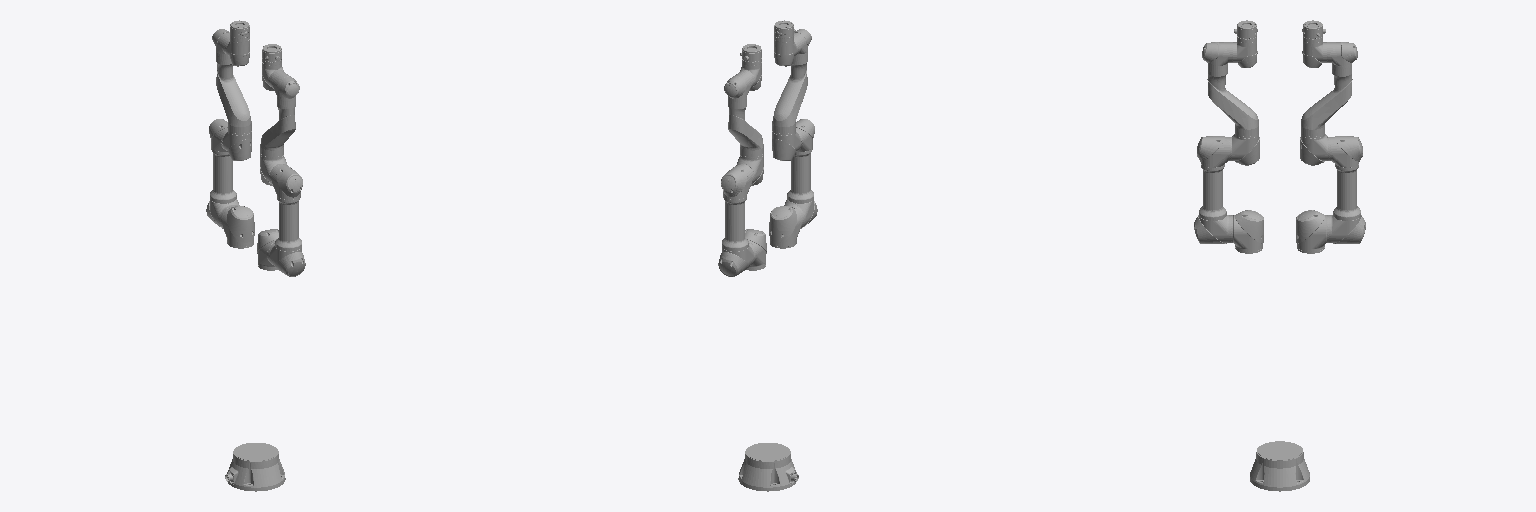
robot.urdf — rbda:
<?xml version="1.0"?>
<robot name="rbda">
  <!-- Links -->
  <link name="world"/>

  <link name="mobile_base">
    <inertial>
      <mass value="161"/>
      <origin rpy="0 0 0" xyz="0.0 0.0 0.0"/>
      <inertia ixx="27" ixy="-0.007" ixz="-0.612" iyy="23" iyz="-4.439" izz="10.129"/>
    </inertial>

    <visual>
      <geometry>
        <mesh filename="package://rbda_description/meshes/MOBILE_BASE.stl"/>
      </geometry>
      <material name="LightGrey">
        <color rgba="0.7 0.7 0.7 1.0"/>
      </material>
    </visual>
  </link>

  <link name="base">
    <inertial>
      <mass value="2.91800"/>
      <origin rpy="0 0 0" xyz="0.0 0.0 0.0"/>
      <inertia ixx="0.01457529" ixy="-0.00000082" ixz="0.00054762" iyy="0.01518894" iyz="0.00000058" izz="0.01550123"/>
    </inertial>

    <visual>
      <geometry>
        <mesh filename="package://rbda_description/meshes/BASE.stl" scale="0.001 0.001 0.001"/>
      </geometry>
      <material name="LightGrey">
        <color rgba="0.7 0.7 0.7 1.0"/>
      </material>
    </visual>
  </link>

  <link name="link_0">
    <inertial>
      <mass value="11.64466333"/>
      <origin rpy="0 0 0" xyz="0.0 0.0 0.0"/>
      <inertia ixx=" 0.45161787" ixy="0.00000094" ixz="0.00028876" iyy="0.43572041" iyz="-0.00050430" izz="0.05408588"/>
    </inertial>

    <visual>
      <geometry>
        <mesh filename="package://rbda_description/meshes/LINK_0.stl" scale="0.001 0.001 0.001"/>
      </geometry>
      <material name="LightGrey">
        <color rgba="0.7 0.7 0.7 1.0"/>
      </material>
    </visual>
  </link>

  <link name="link_1">
    <inertial>
      <mass value="13.25377205"/>
      <origin rpy="0 0 0" xyz="0.0 0.0 0.0"/>
      <inertia ixx="0.19474508" ixy="0.00001690" ixz="-0.00000023" iyy="0.17137211" iyz="-0.00049213" izz="0.06527313"/>
    </inertial>

    <visual>
      <geometry>
        <mesh filename="package://rbda_description/meshes/LINK_1.stl" scale="0.001 0.001 0.001"/>
      </geometry>
      <material name="LightGrey">
        <color rgba="0.7 0.7 0.7 1.0"/>
      </material>
    </visual>
  </link>

  <link name="link_2">
    <inertial>
      <mass value="13.33042487"/>
      <origin rpy="0 0 0" xyz="0.0 0.0 0.0"/>
      <inertia ixx="0.15616959" ixy="0.00001687" ixz="0.00092799" iyy="0.13607163" iyz="-0.00105443" izz="0.05910817"/>
    </inertial>

    <visual>
      <geometry>
        <mesh filename="package://rbda_description/meshes/LINK_2.stl" scale="0.001 0.001 0.001"/>
      </geometry>
      <material name="LightGrey">
        <color rgba="0.7 0.7 0.7 1.0"/>
      </material>
    </visual>
  </link>

  <link name="link_3">
    <inertial>
      <mass value="2.07669726"/>
      <origin rpy="0 0 0" xyz="0.0 0.0 0.0"/>
      <inertia ixx="0.00414408" ixy="-0.00000026" ixz="-0.00000377" iyy="0.00414761" iyz="-0.00001979" izz="0.00215831"/>
    </inertial>

    <visual>
      <geometry>
        <mesh filename="package://rbda_description/meshes/LINK_3.stl" scale="0.001 0.001 0.001"/>
      </geometry>
      <material name="LightGrey">
        <color rgba="0.7 0.7 0.7 1.0"/>
      </material>
    </visual>
  </link>

  <link name="link_4">
    <inertial>
      <mass value="4.08159704"/>
      <origin rpy="0 0 0" xyz="0.0 0.0 0.0"/>
      <inertia ixx="0.17216619" ixy="-0.00002462" ixz="-0.00000840" iyy="0.13459627" iyz="0.04730580" izz="0.04149886"/>
    </inertial>

    <visual>
      <geometry>
        <mesh filename="package://rbda_description/meshes/LINK_4.stl" scale="0.001 0.001 0.001"/>
      </geometry>
      <material name="LightGrey">
        <color rgba="0.7 0.7 0.7 1.0"/>
      </material>
    </visual>
  </link>

  <link name="link_5">
    <inertial>
      <mass value="1.50221027"/>
      <origin rpy="0 0 0" xyz="0.0 0.0 0.0"/>
      <inertia ixx="0.00265085" ixy="0.00000064" ixz="-0.00000260" iyy="0.00257202" iyz="0.00002846" izz="0.00128540"/>
    </inertial>

    <visual>
      <geometry>
        <mesh filename="package://rbda_description/meshes/LINK_5.stl" scale="0.001 0.001 0.001"/>
      </geometry>
      <material name="LightGrey">
        <color rgba="0.7 0.7 0.7 1.0"/>
      </material>
    </visual>
  </link>

  <link name="link_6">
    <inertial>
      <mass value="1.72019885"/>
      <origin rpy="0 0 0" xyz="0.0 0.0 0.0"/>
      <inertia ixx="0.14995915" ixy="0.00000873" ixz="-0.00002574" iyy="0.14118611" iyz="0.03306523" izz="0.00998350"/>
    </inertial>

    <visual>
      <geometry>
        <mesh filename="package://rbda_description/meshes/LINK_6.stl" scale="0.001 0.001 0.001"/>
      </geometry>
      <material name="LightGrey">
        <color rgba="0.7 0.7 0.7 1.0"/>
      </material>
    </visual>
  </link>

  <link name="link_7">
    <inertial>
      <mass value="0.88877220"/>
      <origin rpy="0 0 0" xyz="0.0 0.0 0.0"/>
      <inertia ixx="0.00106944" ixy="-0.00000027" ixz="-0.00000260" iyy="0.00105709" iyz="0.00000295" izz="0.00045001"/>
    </inertial>

    <visual>
      <geometry>
        <mesh filename="package://rbda_description/meshes/LINK_7.stl" scale="0.001 0.001 0.001"/>
      </geometry>
      <material name="LightGrey">
        <color rgba="0.7 0.7 0.7 1.0"/>
      </material>
    </visual>
  </link>

  <link name="link_8">
    <inertial>
      <mass value="0.04971115"/>
      <origin rpy="0 0 0" xyz="0.0 0.0 0.0"/>
      <inertia ixx="0.00025591" ixy="-0.00000040" ixz="0.00000373" iyy="0.00024646" iyz="0.00000444" izz="0.00003526"/>
    </inertial>

    <visual>
      <geometry>
        <mesh filename="package://rbda_description/meshes/LINK_8.stl" scale="0.001 0.001 0.001"/>
      </geometry>
      <material name="LightGrey">
        <color rgba="0.7 0.7 0.7 1.0"/>
      </material>
    </visual>
  </link>

  <link name="link_10">
    <inertial>
      <mass value="2.07669726"/>
      <origin rpy="0 0 0" xyz="0.0 0.0 0.0"/>
      <inertia ixx="0.00414408" ixy="-0.00000026" ixz="0.00000377" iyy="0.00414761" iyz="0.00001979" izz="0.00215831"/>
    </inertial>

    <visual>
      <geometry>
        <mesh filename="package://rbda_description/meshes/LINK_10.stl" scale="0.001 0.001 0.001"/>
      </geometry>
      <material name="LightGrey">
        <color rgba="0.7 0.7 0.7 1.0"/>
      </material>
    </visual>
  </link>

  <link name="link_11">
    <inertial>
      <mass value="4.08159704"/>
      <origin rpy="0 0 0" xyz="0.0 0.0 0.0"/>
      <inertia ixx="0.17216619" ixy="-0.00002462" ixz="0.00000840" iyy="0.13459627" iyz="-0.04730580" izz="0.04149886"/>
    </inertial>

    <visual>
      <geometry>
        <mesh filename="package://rbda_description/meshes/LINK_11.stl" scale="0.001 0.001 0.001"/>
      </geometry>
      <material name="LightGrey">
        <color rgba="0.7 0.7 0.7 1.0"/>
      </material>
    </visual>
  </link>

  <link name="link_12">
    <inertial>
      <mass value="1.50221027"/>
      <origin rpy="0 0 0" xyz="0.0 0.0 0.0"/>
      <inertia ixx="0.00265085" ixy="0.00000064" ixz="0.00000260" iyy="0.00257202" iyz="-0.00002846" izz="0.00128540"/>
    </inertial>

    <visual>
      <geometry>
        <mesh filename="package://rbda_description/meshes/LINK_12.stl" scale="0.001 0.001 0.001"/>
      </geometry>
      <material name="LightGrey">
        <color rgba="0.7 0.7 0.7 1.0"/>
      </material>
    </visual>
  </link>

  <link name="link_13">
    <inertial>
      <mass value="1.72019885"/>
      <origin rpy="0 0 0" xyz="0.0 0.0 0.0"/>
      <inertia ixx="0.14995915" ixy="0.00000873" ixz="0.00002574" iyy="0.14118611" iyz="-0.03306523" izz="0.00998350"/>
    </inertial>

    <visual>
      <geometry>
        <mesh filename="package://rbda_description/meshes/LINK_13.stl" scale="0.001 0.001 0.001"/>
      </geometry>
      <material name="LightGrey">
        <color rgba="0.7 0.7 0.7 1.0"/>
      </material>
    </visual>
  </link>

  <link name="link_14">
    <inertial>
      <mass value="0.88877220"/>
      <origin rpy="0 0 0" xyz="0.0 0.0 0.0"/>
      <inertia ixx="0.00106944" ixy="-0.00000027" ixz="0.00000260" iyy="0.00105709" iyz="-0.00000295" izz="0.00045001"/>
    </inertial>

    <visual>
      <geometry>
        <mesh filename="package://rbda_description/meshes/LINK_14.stl" scale="0.001 0.001 0.001"/>
      </geometry>
      <material name="LightGrey">
        <color rgba="0.7 0.7 0.7 1.0"/>
      </material>
    </visual>
  </link>

  <link name="link_15">
    <inertial>
      <mass value="0.88877220"/>
      <origin rpy="0 0 0" xyz="0.0 0.0 0.0"/>
      <inertia ixx="0.00106944" ixy="-0.00000027" ixz="0.00000260" iyy="0.00105709" iyz="-0.00000295" izz="0.00045001"/>
    </inertial>

    <visual>
      <geometry>
        <mesh filename="package://rbda_description/meshes/LINK_15.stl" scale="0.001 0.001 0.001"/>
      </geometry>
      <material name="LightGrey">
        <color rgba="0.7 0.7 0.7 1.0"/>
      </material>
    </visual>
  </link>

  <!-- Joints -->
  <joint name="world_joint" type="continuous">
    <parent link="world"/>
    <child link="mobile_base"/>
    <origin rpy="0.0 0.0 0.0" xyz="0.0 0.0 0.0"/>
    <axis xyz="0 0 1"/>
  </joint>

  <joint name="base_joint" type="fixed">
    <parent link="mobile_base"/>
    <child link="base"/>
    <origin rpy="0.0 0.0 0.0" xyz="0.0 0.0 0.0"/>
  </joint>

  <joint name="joint_0" type="continuous">
    <parent link="base"/>
    <child link="link_0"/>
    <origin rpy="0.0 0.0 0.0" xyz="0.0 0.0 0.36000"/>
    <axis xyz="0 0 1"/>
  </joint>

  <joint name="joint_1" type="continuous">
    <parent link="link_0"/>
    <child link="link_1"/>
    <origin rpy="0.0 0.0 0.0" xyz="0.0 0.0 0.0"/>
    <axis xyz="0 1 0"/>
  </joint>

  <joint name="joint_2" type="continuous">
    <parent link="link_1"/>
    <child link="link_2"/>
    <origin rpy="0.0 0.0 0.0" xyz="0.0 0.0 0.266"/>
    <axis xyz="0 1 0"/>
  </joint>

  <joint name="joint_3" type="continuous">
    <parent link="link_2"/>
    <child link="link_3"/>
    <origin rpy="0.0 0.0 0.0" xyz="0.0 -0.10000 0.26280"/>
    <axis xyz="0 0 1"/>
  </joint>

  <joint name="joint4" type="continuous">
    <parent link="link_3"/>
    <child link="link_4"/>
    <origin rpy="0.0 0.0 0.0" xyz="0.0 0.0 0.0"/>
    <axis xyz="0 1 0"/>
  </joint>

  <joint name="joint5" type="continuous">
    <parent link="link_4"/>
    <child link="link_5"/>
    <origin rpy="0.0 0.0 0.0" xyz="0.0 -0.00645 0.28600"/>
    <axis xyz="0 1 0"/>
  </joint>

  <joint name="joint_6" type="continuous">
    <parent link="link_5"/>
    <child link="link_6"/>
    <origin rpy="0.0 0.0 0.0" xyz="0.0 0.0 -0.005"/>
    <axis xyz="0 0 1"/>
  </joint>

  <joint name="joint_7" type="continuous">
    <parent link="link_6"/>
    <child link="link_7"/>
    <origin rpy="0.0 0.0 0.0" xyz="0.0 0.0 0.34900"/>
    <axis xyz="0 1 0"/>
  </joint>

  <joint name="joint_8" type="continuous">
    <parent link="link_7"/>
    <child link="link_8"/>
    <origin rpy="0.0 0.0 0.0" xyz="0.0 0.0 0.0"/>
    <axis xyz="0 0 1"/>
  </joint>

  <joint name="joint_10" type="continuous">
    <parent link="link_2"/>
    <child link="link_10"/>
    <origin rpy="0.0 0.0 0.0" xyz="0.0 0.10000 0.26280"/>
    <axis xyz="0 0 1"/>
  </joint>

  <joint name="joint_11" type="continuous">
    <parent link="link_10"/>
    <child link="link_11"/>
    <origin rpy="0.0 0.0 0.0" xyz="0.0 0.0 0.0"/>
    <axis xyz="0 1 0"/>
  </joint>

  <joint name="joint_12" type="continuous">
    <parent link="link_11"/>
    <child link="link_12"/>
    <origin rpy="0.0 0.0 0.0" xyz="0.0 0.00645 0.28600"/>
    <axis xyz="0 1 0"/>
  </joint>

  <joint name="joint_13" type="continuous">
    <parent link="link_12"/>
    <child link="link_13"/>
    <origin rpy="0.0 0.0 0.0" xyz="0.0 0.0 -0.005"/>
    <axis xyz="0 0 1"/>
  </joint>

  <joint name="joint_14" type="continuous">
    <parent link="link_13"/>
    <child link="link_14"/>
    <origin rpy="0.0 0.0 0.0" xyz="0.0 0.0 0.34900"/>
    <axis xyz="0 1 0"/>
  </joint>

  <joint name="joint_15" type="continuous">
    <parent link="link_14"/>
    <child link="link_15"/>
    <origin rpy="0.0 0.0 0.0" xyz="0.0 0.0 0.0"/>
    <axis xyz="0 0 1"/>
  </joint>
</robot>

--- Render facts (derived) ---
3 views of the same robot in one strip: view 1: azimuth 30°, elevation 25°; view 2: azimuth 150°, elevation 25°; view 3: azimuth 270°, elevation 25° (orthographic).
Model rbda with 18 links and 17 joints (16 continuous, 1 fixed), rooted at world, posed every joint at zero.
Links seen in each view (by area): view 1: link_4, base, link_13, link_11, link_6, link_10, link_12, link_3, link_14; view 2: link_11, base, link_6, link_4, link_13, link_3, link_5, link_10, link_7; view 3: link_4, link_11, base, link_6, link_13, link_3, link_10, link_5, link_12, link_7, link_14.
Link boxes in pixels (<box>): link_4: <box>267,164,305,276</box>; base: <box>225,443,285,491</box>; link_13: <box>212,29,251,133</box>; link_11: <box>206,119,239,228</box>; link_6: <box>260,70,299,156</box>; link_10: <box>222,206,254,248</box>; link_12: <box>222,130,251,160</box>; link_3: <box>257,229,278,270</box>; link_14: <box>226,36,249,66</box>; link_11: <box>718,164,756,276</box>; base: <box>738,443,798,491</box>; link_6: <box>772,29,811,133</box>; link_4: <box>784,119,817,228</box>; link_13: <box>724,70,763,156</box>; link_3: <box>769,206,801,248</box>; link_5: <box>772,130,801,160</box>; link_10: <box>745,229,766,270</box>; link_7: <box>774,36,797,66</box>; link_4: <box>1194,136,1232,243</box>; link_11: <box>1327,136,1365,243</box>; base: <box>1250,441,1309,491</box>; link_6: <box>1202,42,1258,136</box>; link_13: <box>1301,42,1357,136</box>; link_3: <box>1233,210,1263,253</box>; link_10: <box>1296,210,1326,253</box>; link_5: <box>1232,133,1259,165</box>; link_12: <box>1300,133,1327,165</box>; link_7: <box>1237,37,1257,67</box>; link_14: <box>1302,37,1322,67</box>.
Bounding box of the posed robot: 0.209 × 0.5558 × 1.62 m (x, y, z).
Meshes: 17 distinct files referenced, 13 mesh visuals loaded (13 binary STL); not drawn: 4 (reference not matched to a file when rendering).